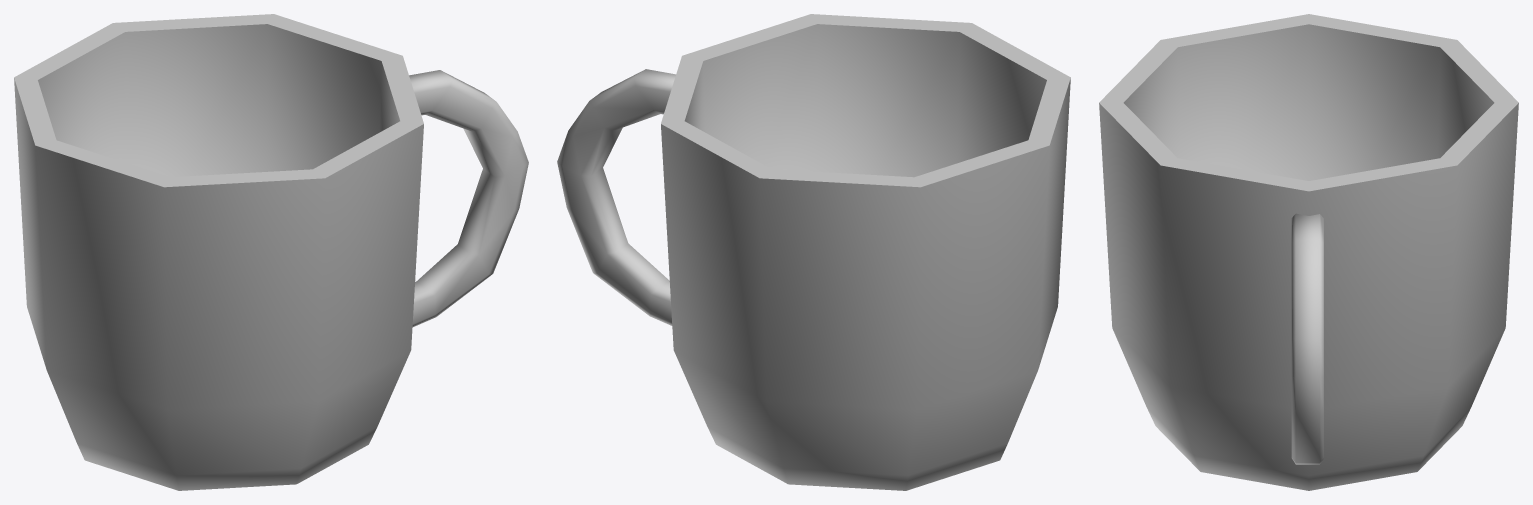
Rendered from Coffee_Cup.FBX.
3 views of the same model, side by side, from view 1: azimuth 30°, elevation 25°; view 2: azimuth 150°, elevation 25°; view 3: azimuth 270°, elevation 25° (orthographic).
Parts seen in each view (by area): view 1: Coffee Cup; view 2: Coffee Cup; view 3: Coffee Cup.
Part boxes in pixels (<box>): Coffee Cup: <box>14,14,528,490</box>; Coffee Cup: <box>557,14,1070,490</box>; Coffee Cup: <box>1099,14,1518,490</box>.
Size of the model in its own units: 44.01 by 28.24 by 33.22.
